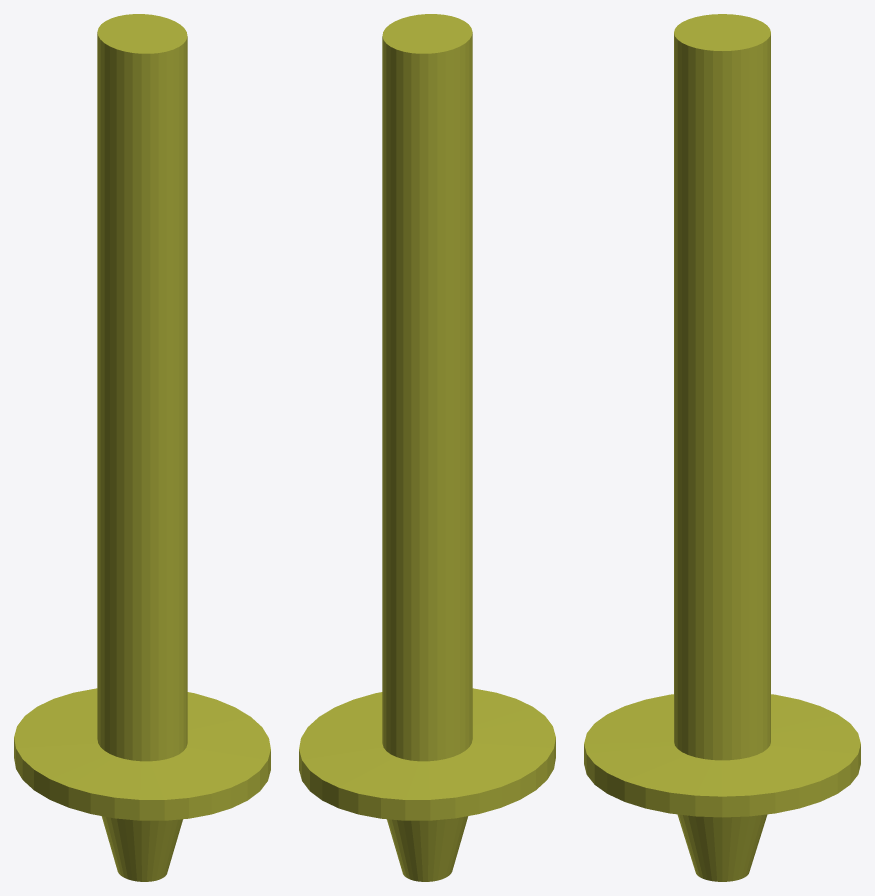
The model's file is smesa.fbx.
The picture shows the model from 3 angles, left to right: view 1: azimuth 30°, elevation 25°; view 2: azimuth 150°, elevation 25°; view 3: azimuth 270°, elevation 25°; orthographic projection.
Parts seen in each view (by area): view 1: Cylinder.006; view 2: Cylinder.006; view 3: Cylinder.006.
Boxes of the visible parts, bbox=[...] form: Cylinder.006: bbox=[14, 14, 270, 881]; Cylinder.006: bbox=[299, 14, 555, 881]; Cylinder.006: bbox=[584, 14, 860, 881].
Bounding box in the file's own units: 125 × 463 × 138.
